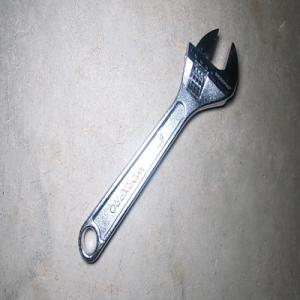Wrench: (78, 28, 238, 262)
